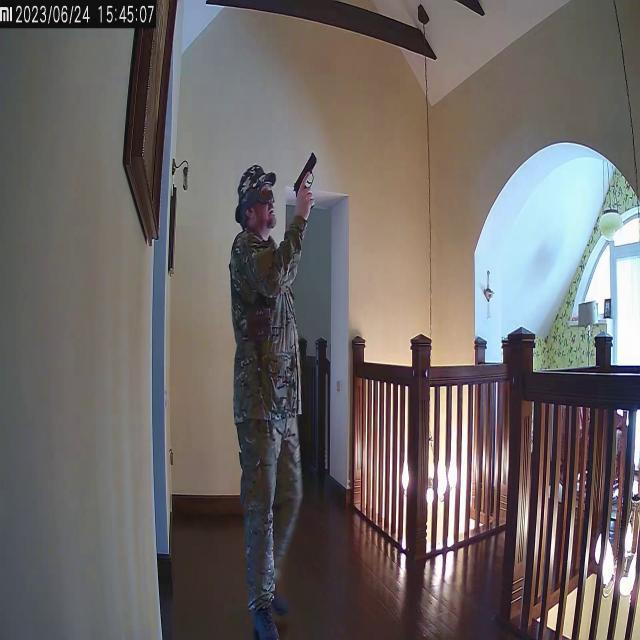pistol: (293, 152, 319, 206)
